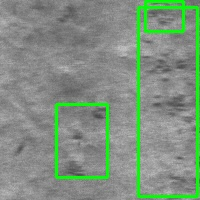rolled-in_scale: (138, 7, 197, 196), (56, 104, 107, 177), (145, 1, 183, 31)
